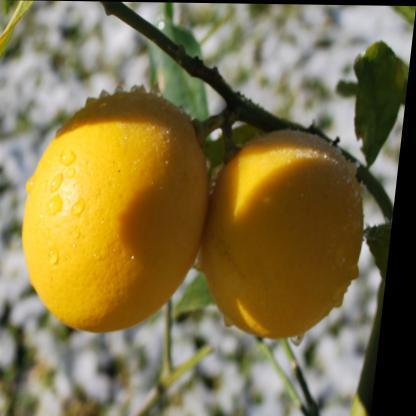lemon: (22, 90, 209, 332), (202, 128, 365, 338)
